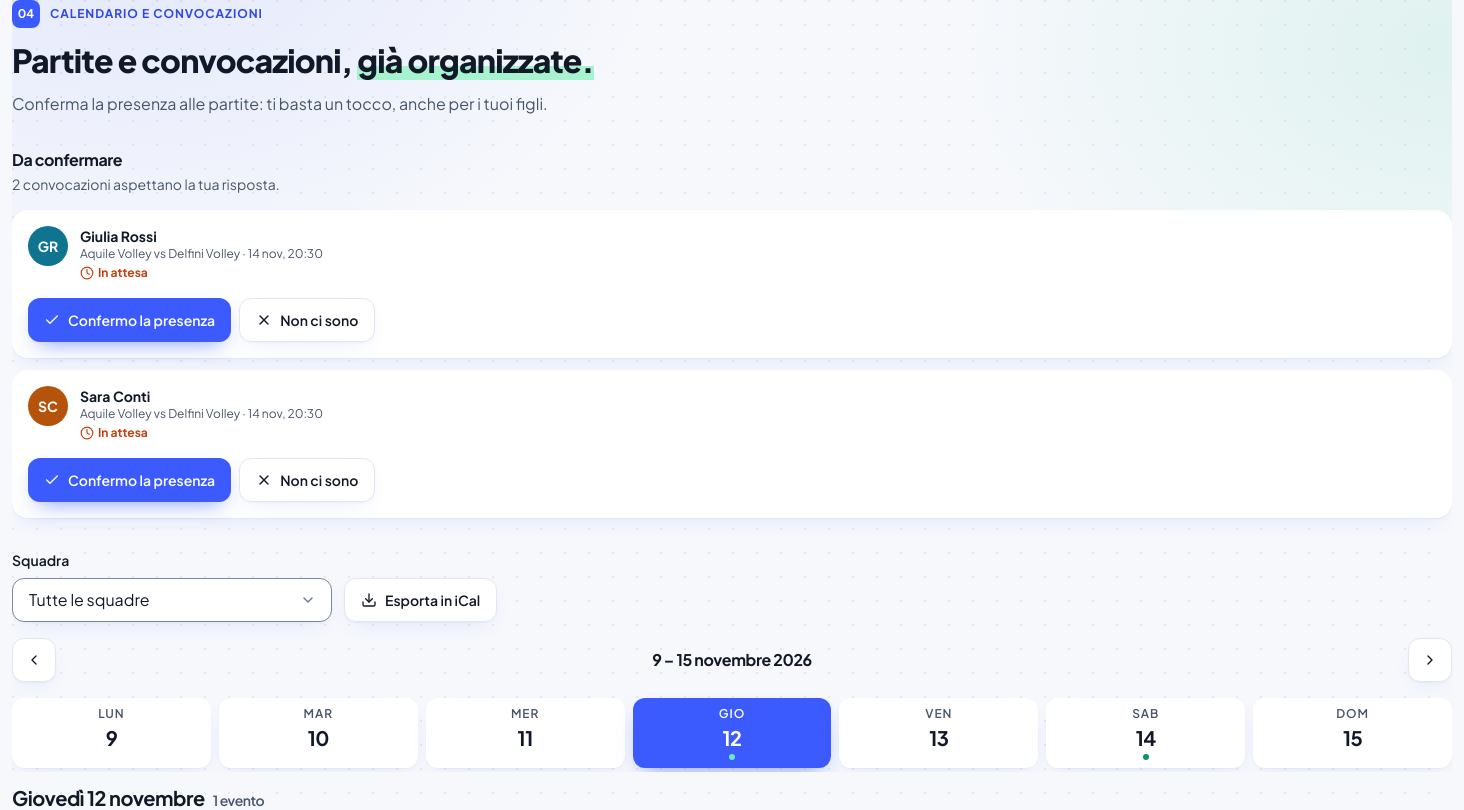
Test: convocations of an athlete or a guardian › lists the convocations to answer and confirms one with a tap
Expected: the text "2 convocazioni aspettano la tua risposta." is shown, [12,174,280,194]
Expected: the text "Giulia Rossi" is shown, [80,227,157,245]
Click the button with aria-label "Confermo la presenza di Giulia Rossi" at (130, 320), box [28,298,231,342]
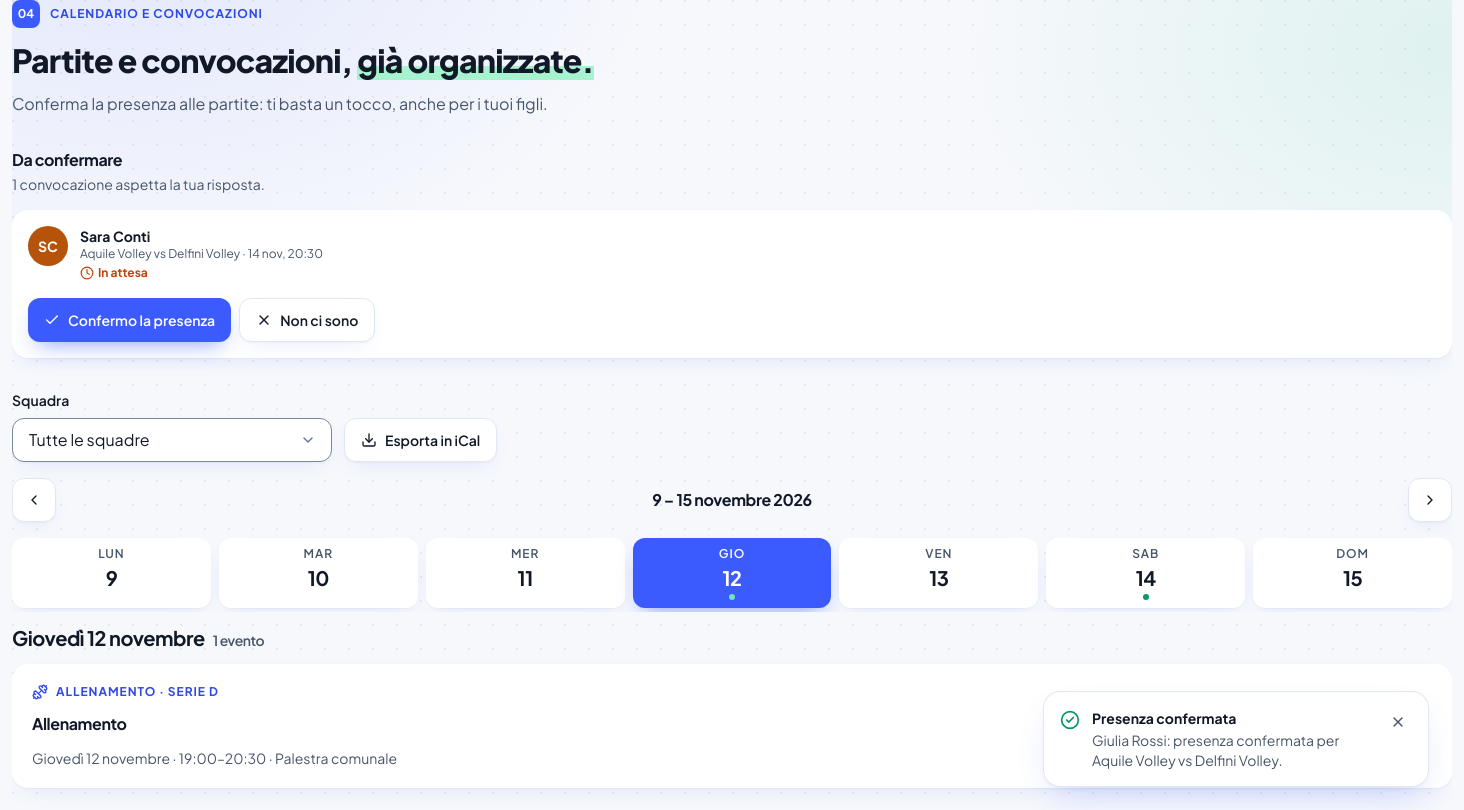
Expected: the text "Presenza confermata" is shown, [1092,709,1236,727]
